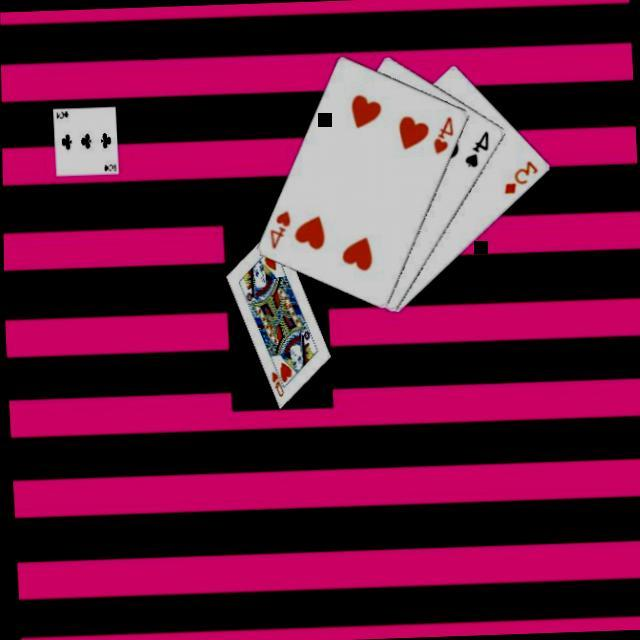3D: (498, 155, 540, 195)
4H: (426, 110, 457, 155), (264, 205, 293, 250)
4S: (459, 125, 491, 168)
